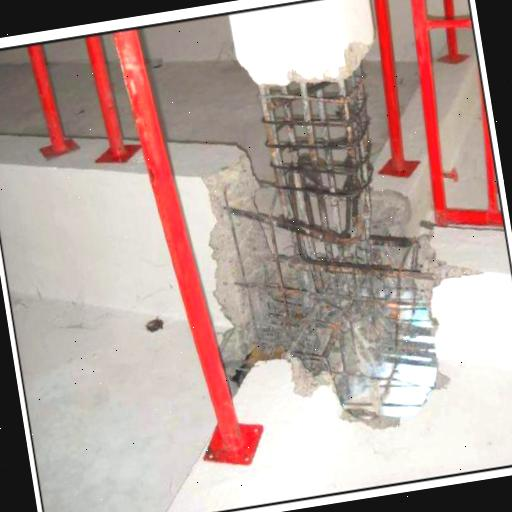spalling: (244, 52, 407, 374)
